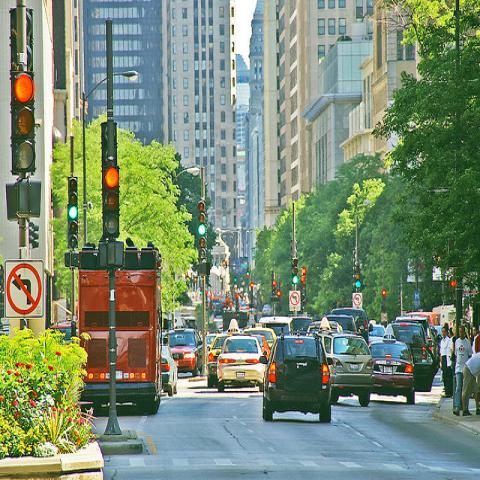car: (49, 250, 460, 416), (262, 330, 332, 424), (370, 331, 438, 406), (315, 330, 375, 408), (216, 335, 266, 393), (167, 328, 203, 380), (206, 332, 238, 388), (330, 307, 373, 347), (259, 316, 314, 336), (386, 323, 428, 346), (161, 345, 179, 397), (243, 322, 276, 349), (370, 324, 386, 342), (206, 332, 220, 350)
truck: (70, 244, 167, 416)
